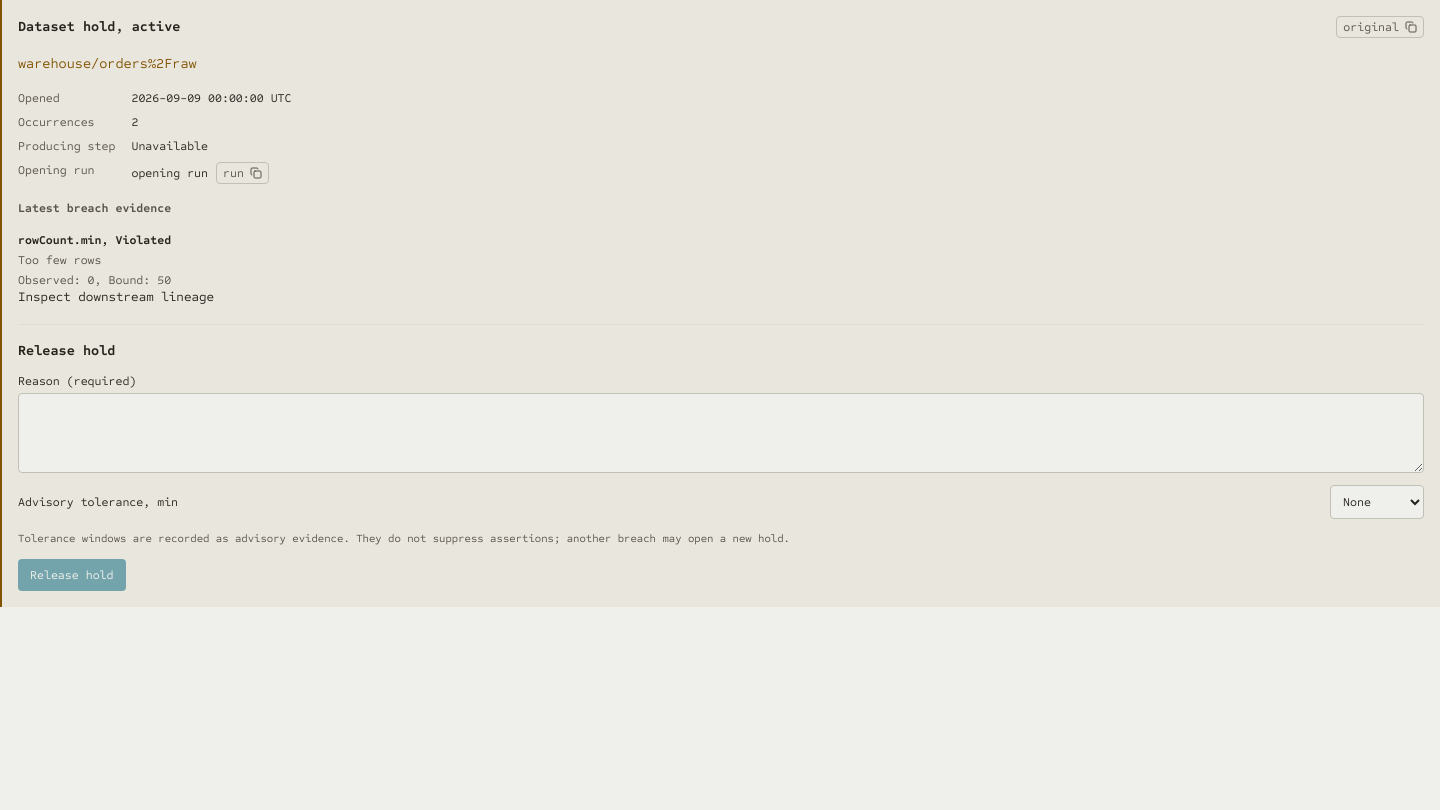
Test: hold release boundary › refuses to retry or retarget a conflicting historical hold
The image size is (1440, 810).
Type "reviewed" into the text box named "Release reason" at point(721, 432), box 18,392 -> 1424,472
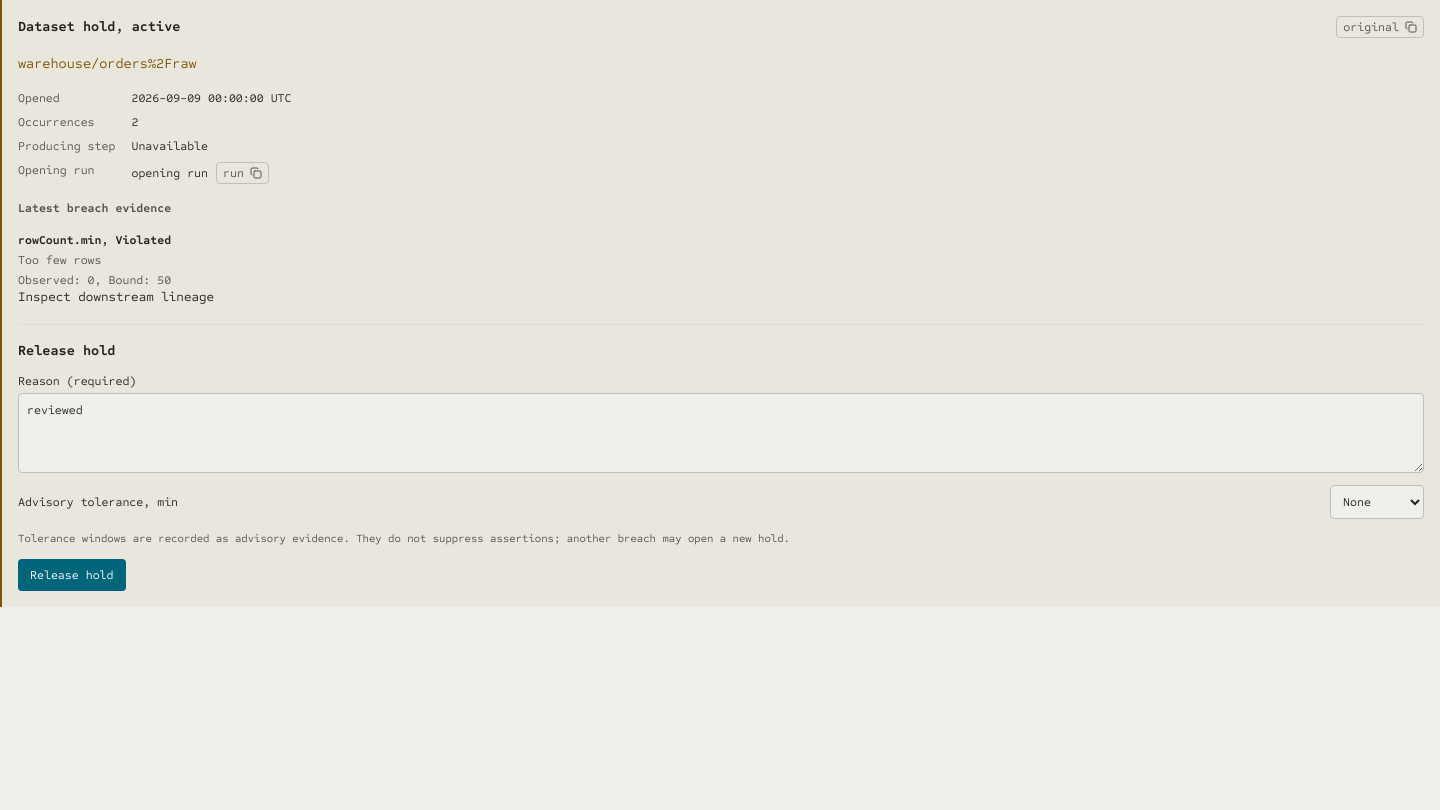
Click the button "Release hold" at point(72, 575), box 18,559 -> 126,591
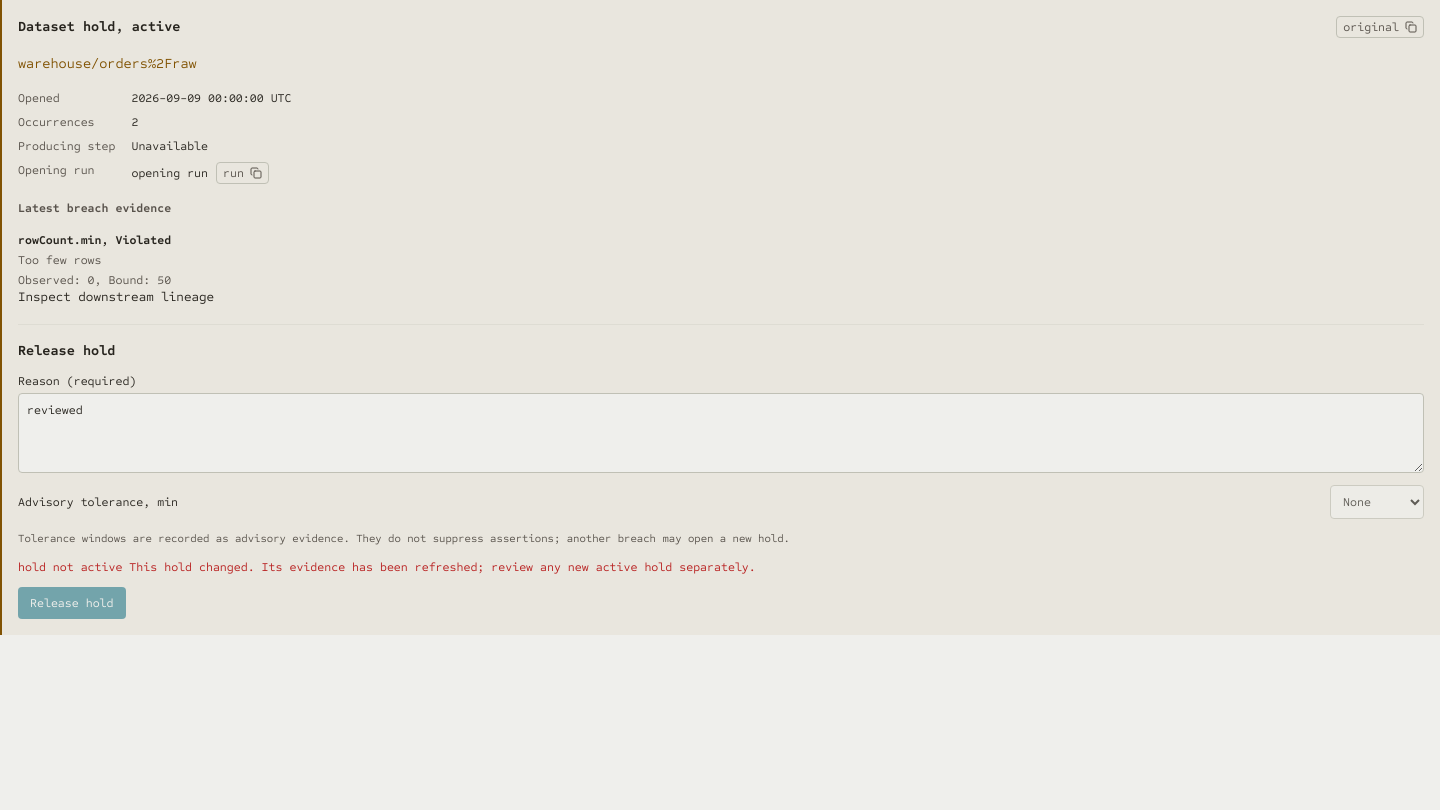
Check: the text "original" is shown, box 1343,19 -> 1399,35
Check: the message shows "review any new active hold separately", box 122,560 -> 756,574
Check: the button "Release hold" is disabled, box 18,587 -> 126,619
